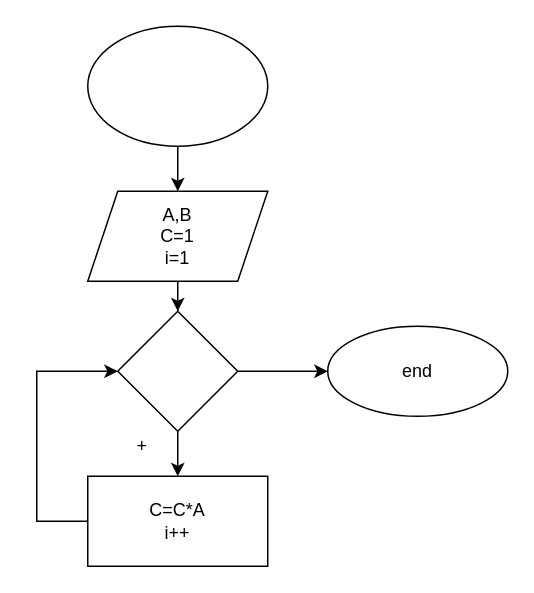
Image size: 534x593. Some labels were removed from this diagram. The box of each missing label's shape, as (x1, y1, x2, y2) in pixels:
i<=B и B>0: (116, 310, 238, 431)
start: (86, 25, 268, 146)
